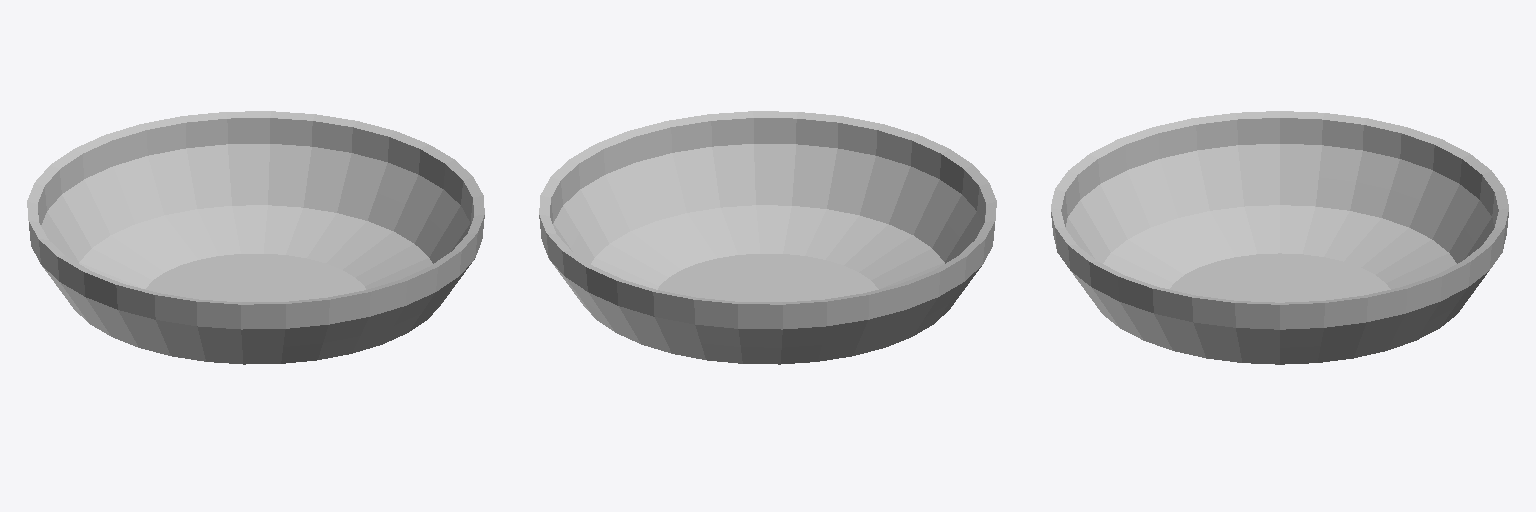
File: NewBowl.obj
3 renders of one model, left to right at view 1: azimuth 30°, elevation 25°; view 2: azimuth 150°, elevation 25°; view 3: azimuth 270°, elevation 25°, orthographic.
Visible parts, largest first — view 1: Cylinder; view 2: Cylinder; view 3: Cylinder.
Boxes of the visible parts, <box> form: Cylinder: <box>27,111,484,364</box>; Cylinder: <box>539,111,996,364</box>; Cylinder: <box>1051,111,1508,364</box>.
Size of the model in its own units: 2.39 by 0.5528 by 2.39.